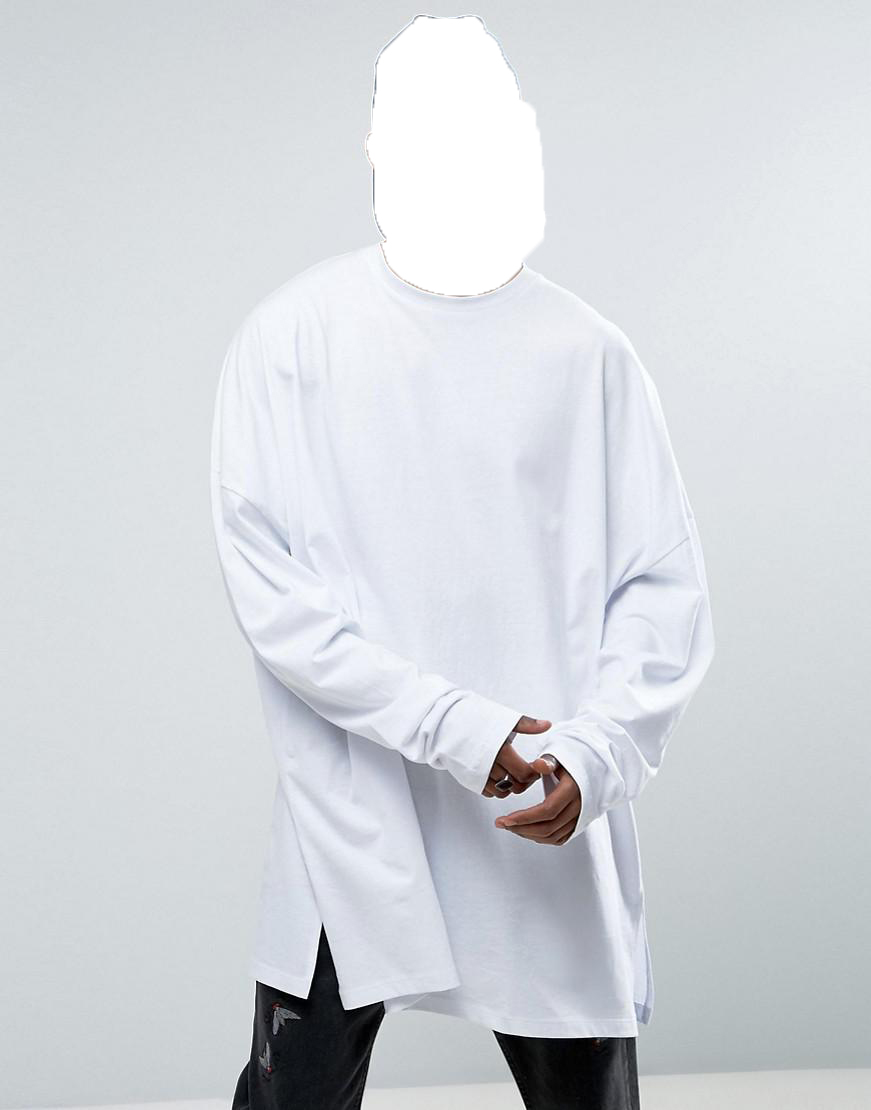teeshirt: (201, 244, 720, 1059)
